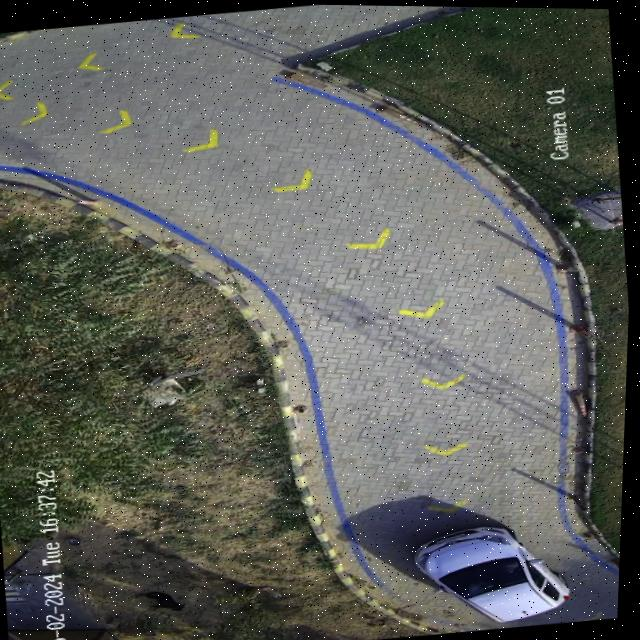car: (418, 524, 575, 620)
